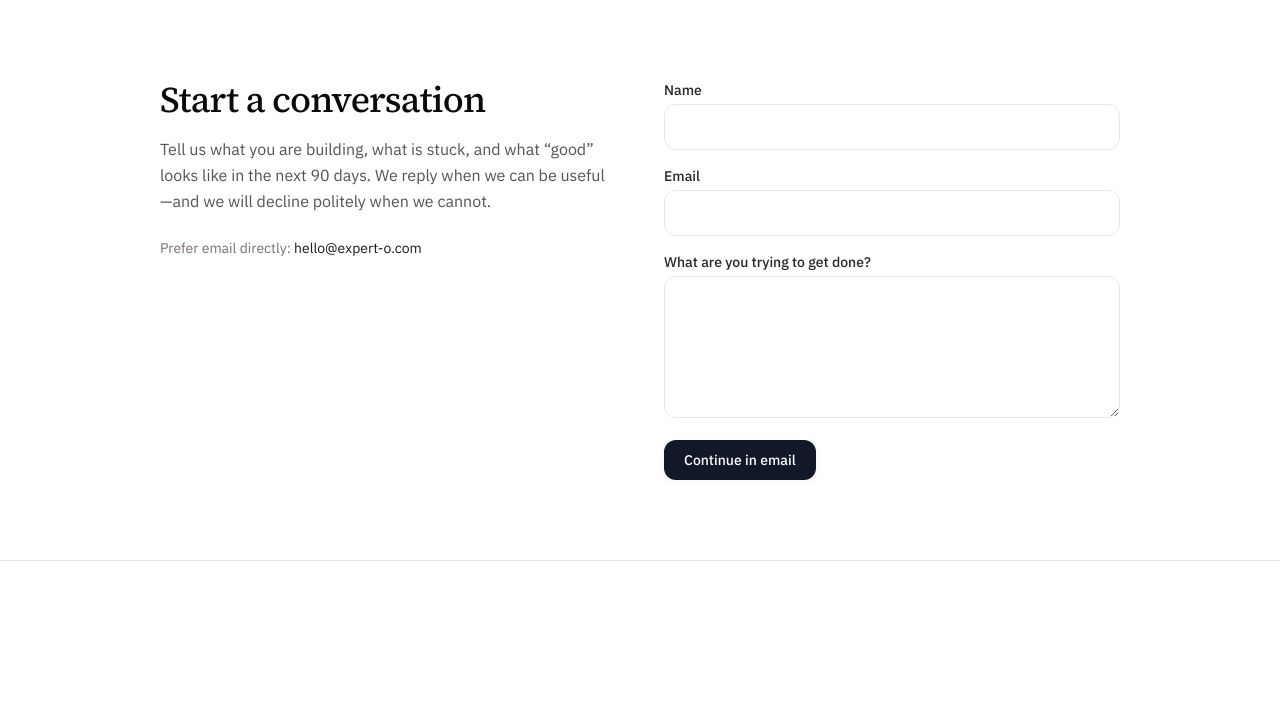
it: Landing mailto forms › renders a real next step via mailto
The width and height of the screenshot is (1280, 720).
Type "Ada" into the field labelled "Name" at coordinates (892, 127), box [664,104,1120,150]
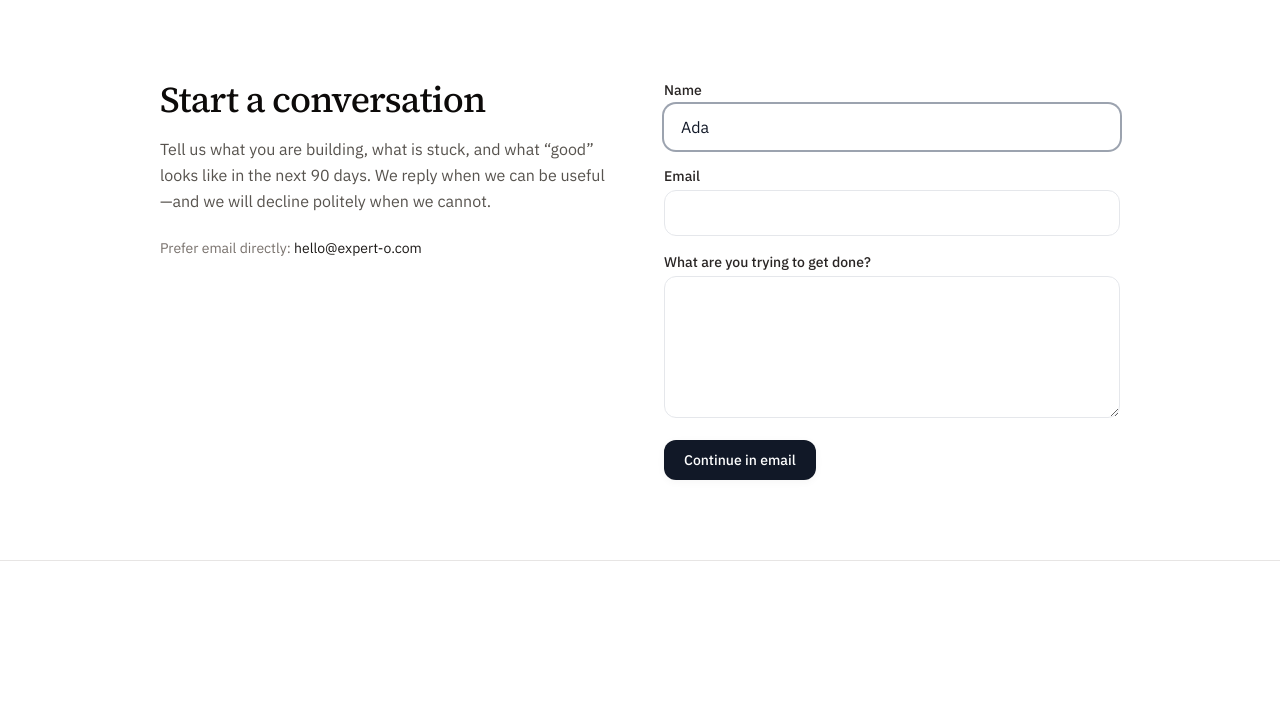
Type "ada@example.com" into the field labelled "Email" at coordinates (892, 213), box [664,190,1120,236]
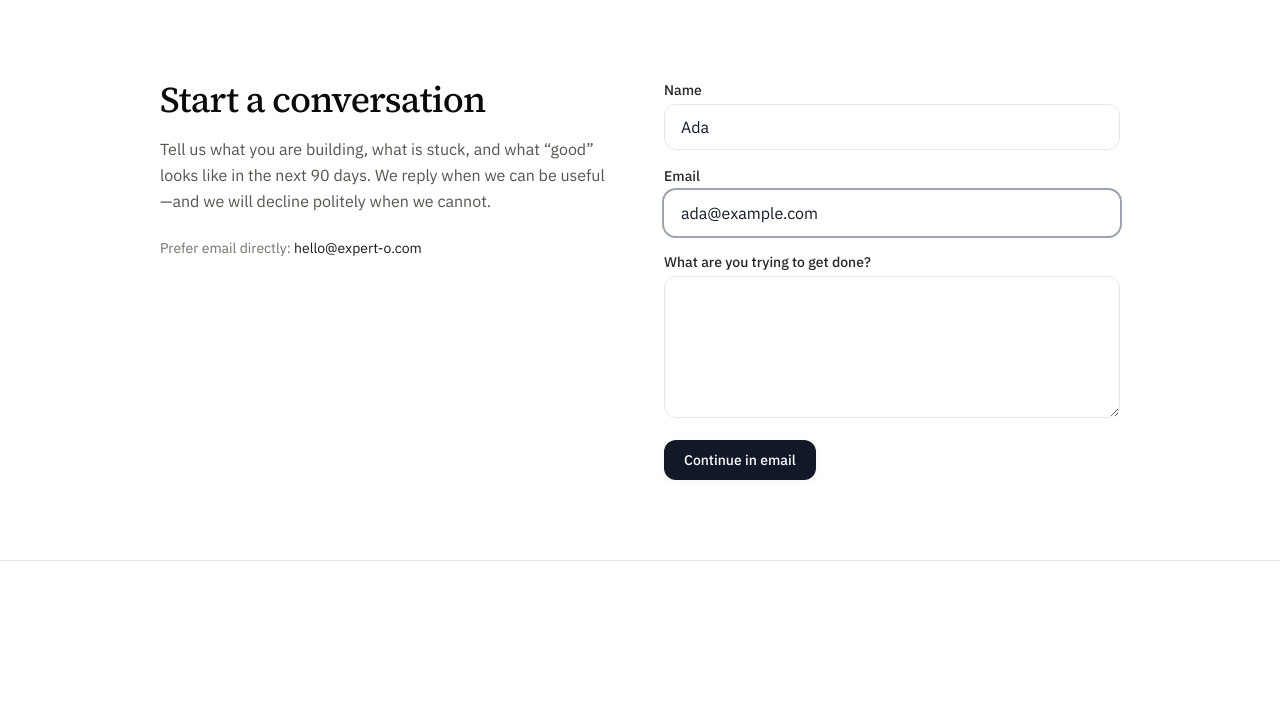
Type "Need a product rebuild" into the text box labelled "What are you trying to get done?" at coordinates (892, 347), box [664,276,1120,418]
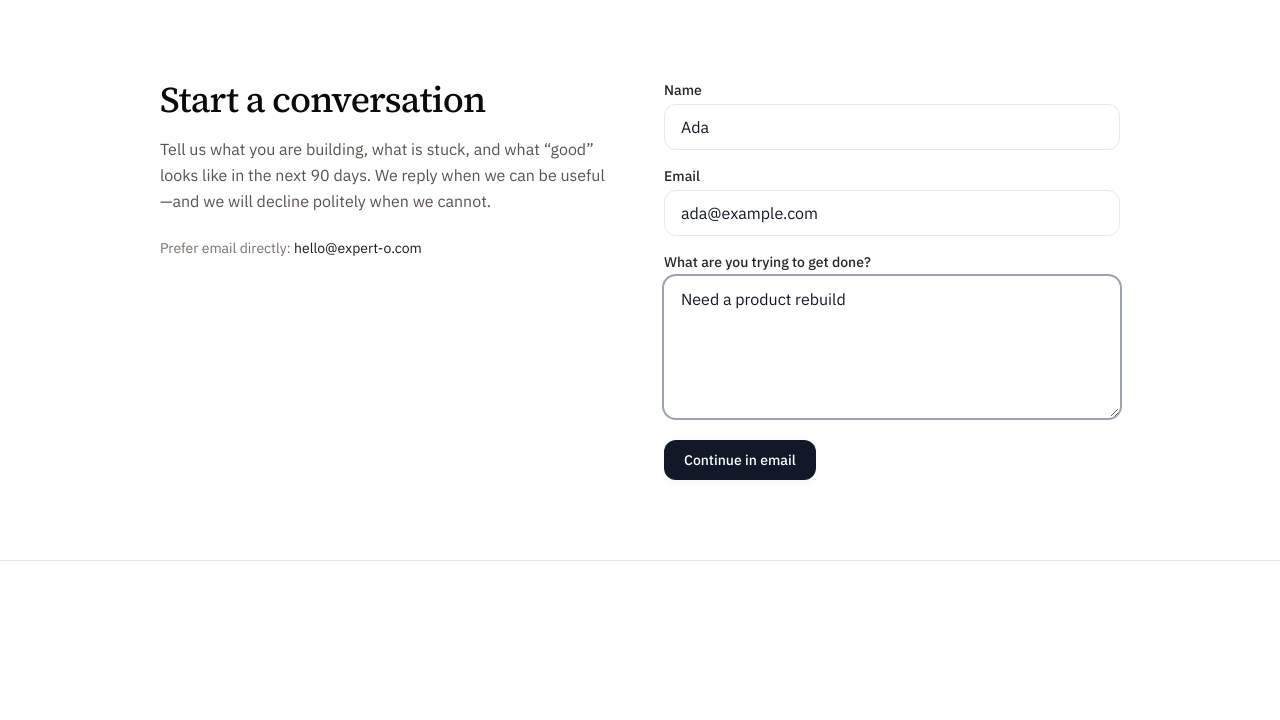
Click the button "Continue in email" at coordinates (740, 460), box [664,440,816,480]
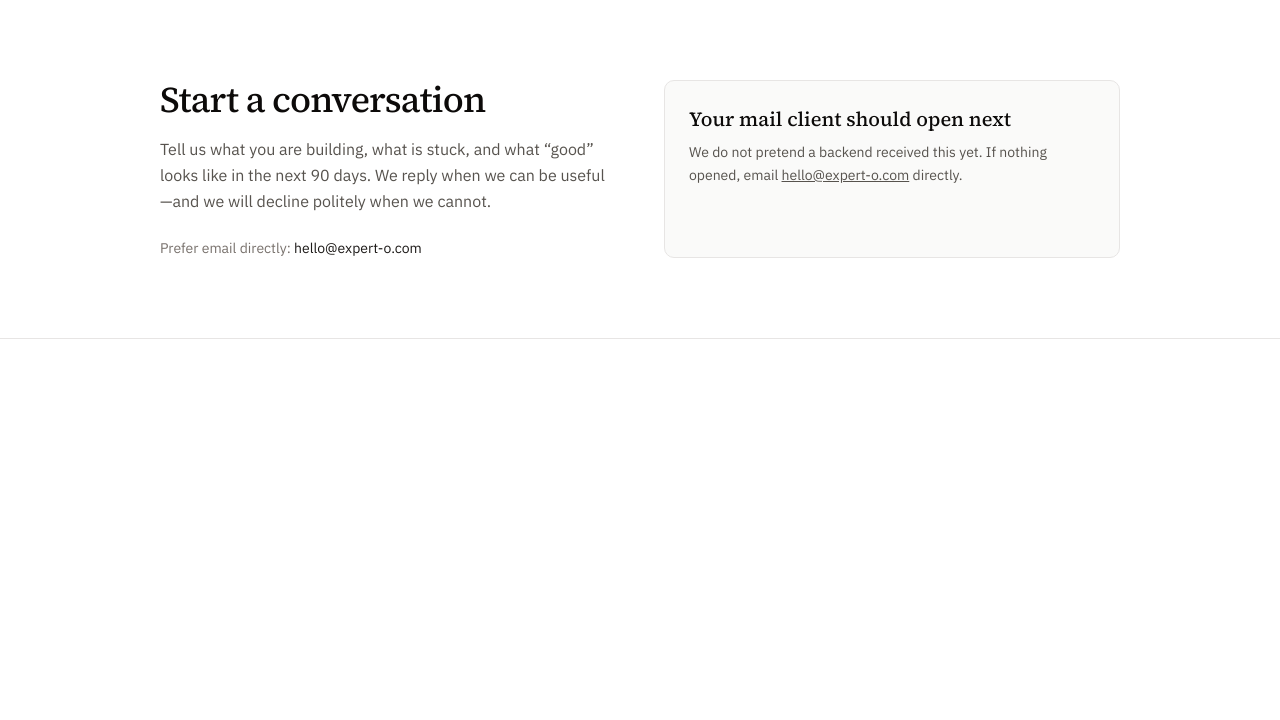
Check: the heading "Your mail client should open next" is shown, box [689,105,1011,133]
